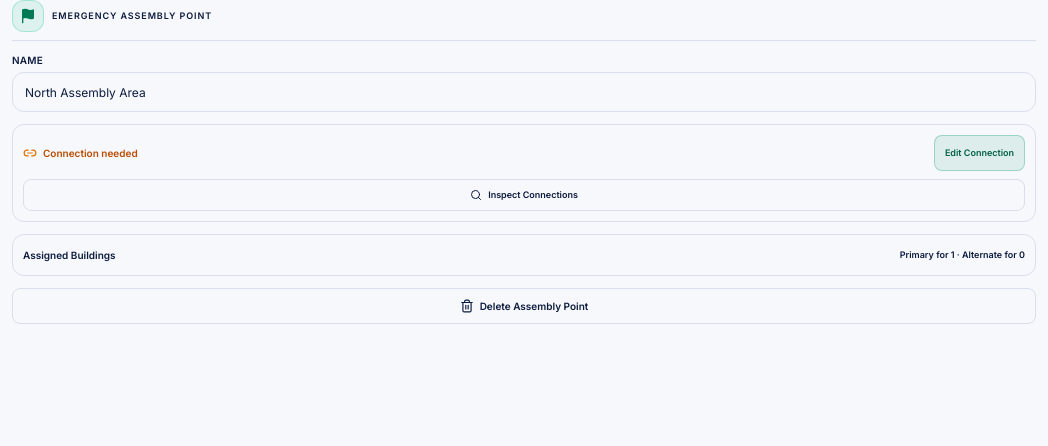
Scenario: EmergencyAssemblyPointPropertiesSection › opens an outdoor connectivity report, focuses the owned point, and clears the map highlight
Check: the text with test id "assembly-outdoor-network-status" reads "Connection needed", box [43,146,138,158]
Check: the button "Edit Connection" is shown, box [934,135,1025,171]
What coordinates should you click on to do the following:
click the button "Inspect Connections"
I would click on:
 (524, 195)
Its box is [23,179,1025,211].
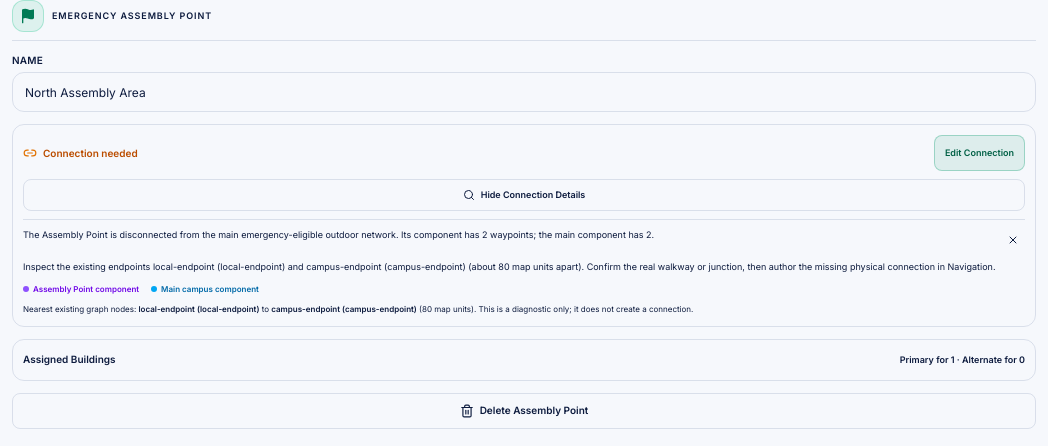
Check: the element with test id "assembly-outdoor-connectivity-report" shows "disconnected from the main", box [23,229,654,240]
Check: the element with test id "assembly-nearest-outdoor-gap" shows "local-endpoint", box [138,304,259,314]
What coordinates should you click on to do the following:
click the button named "Clear outdoor network highlight"
I would click on:
 (1013, 240)
Its box is [1001,228,1025,252].
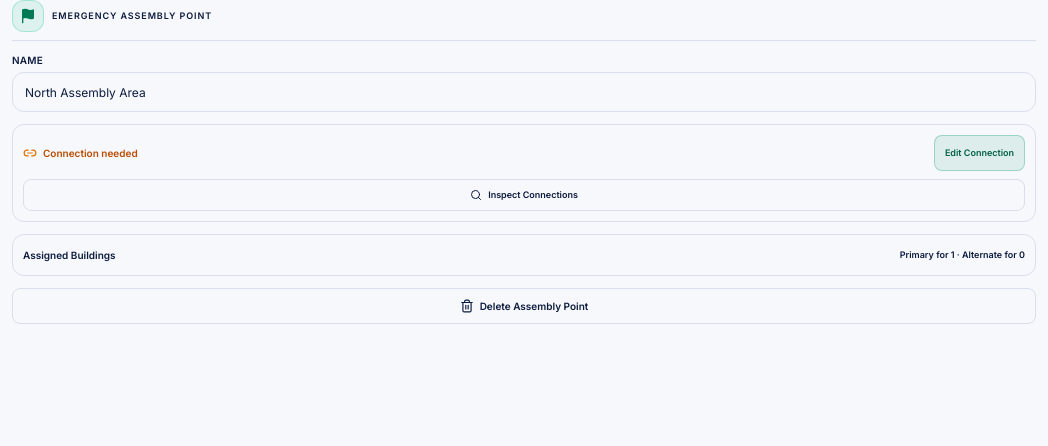
Check: the element with test id "assembly-outdoor-connectivity-report" is gone
